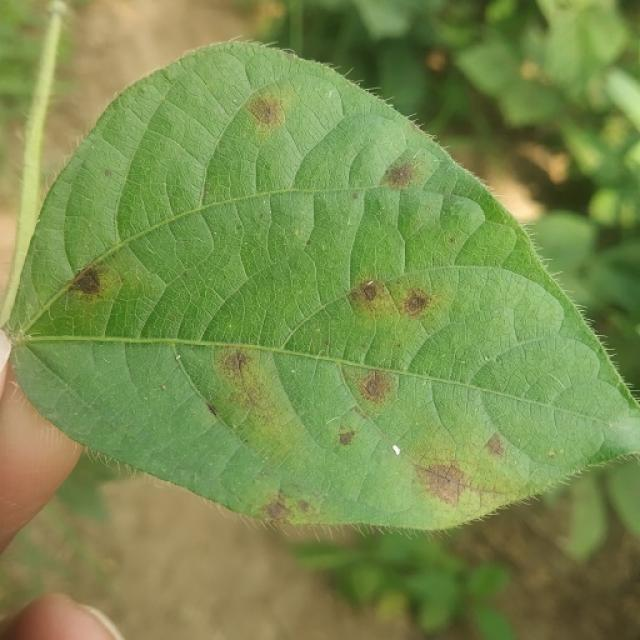Anthracnose: (445, 205, 518, 271), (340, 361, 397, 419), (240, 80, 295, 139), (227, 351, 270, 415), (413, 461, 472, 506), (261, 488, 322, 525), (64, 257, 108, 301), (347, 278, 394, 316), (382, 160, 418, 189), (2, 324, 29, 352), (265, 498, 289, 522), (404, 292, 429, 315), (227, 350, 249, 374), (485, 433, 506, 457), (338, 429, 356, 446), (205, 401, 219, 417), (293, 228, 304, 238), (103, 168, 112, 178), (447, 236, 456, 245), (305, 238, 313, 246), (352, 192, 359, 200)
Blackgram: (9, 44, 639, 528)
